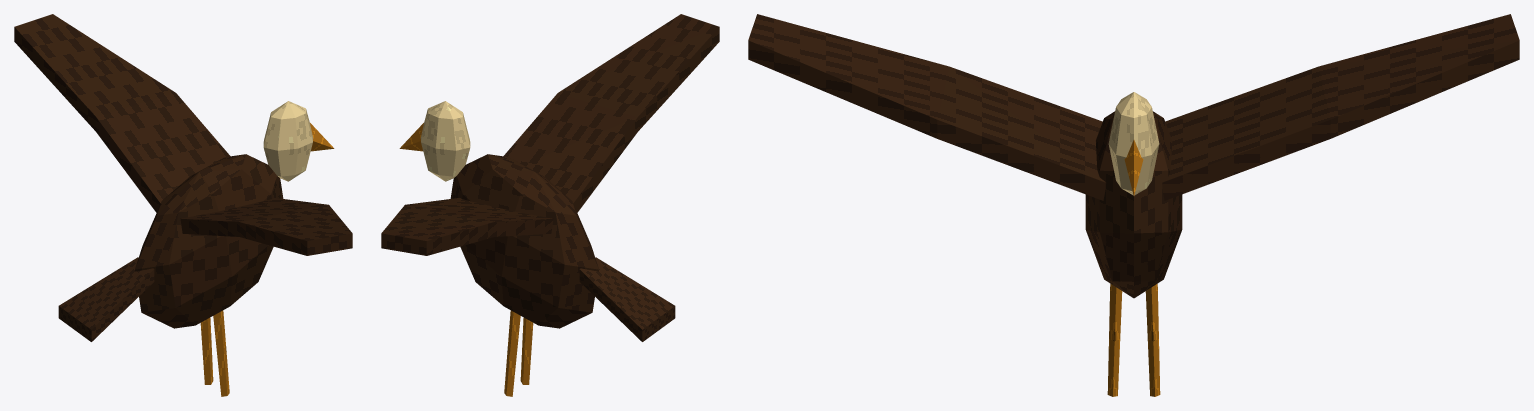
The model's file is aguila.glb.
3 views of the same model, side by side, from view 1: azimuth 30°, elevation 25°; view 2: azimuth 150°, elevation 25°; view 3: azimuth 270°, elevation 25° (orthographic). The views are drawn at different scales.
Visible parts, largest first — view 1: ala_izq, cuerpo, ala_der, cola, cabeza, patas, pico; view 2: ala_der, cuerpo, ala_izq, cola, cabeza, patas, pico; view 3: ala_der, ala_izq, cuerpo, cabeza, patas.
Boxes of the visible parts, box(x1,y1,x2,y2) form: ala_izq: box(14, 14, 230, 212); cuerpo: box(135, 154, 283, 328); ala_der: box(180, 198, 352, 255); cola: box(58, 257, 154, 341); cabeza: box(263, 101, 313, 181); patas: box(200, 310, 229, 396); pico: box(310, 123, 334, 151); ala_der: box(503, 14, 719, 212); cuerpo: box(450, 154, 598, 328); ala_izq: box(381, 198, 553, 255); cola: box(579, 257, 675, 341); cabeza: box(420, 101, 470, 181); patas: box(504, 310, 533, 396); pico: box(399, 123, 423, 151); ala_der: box(748, 14, 1105, 200); ala_izq: box(1162, 14, 1519, 200); cuerpo: box(1085, 111, 1182, 298); cabeza: box(1108, 92, 1159, 195); patas: box(1107, 283, 1160, 396).
Size of the model in its own units: 0.9 by 0.9 by 1.8.
1 material, 1 textured.
